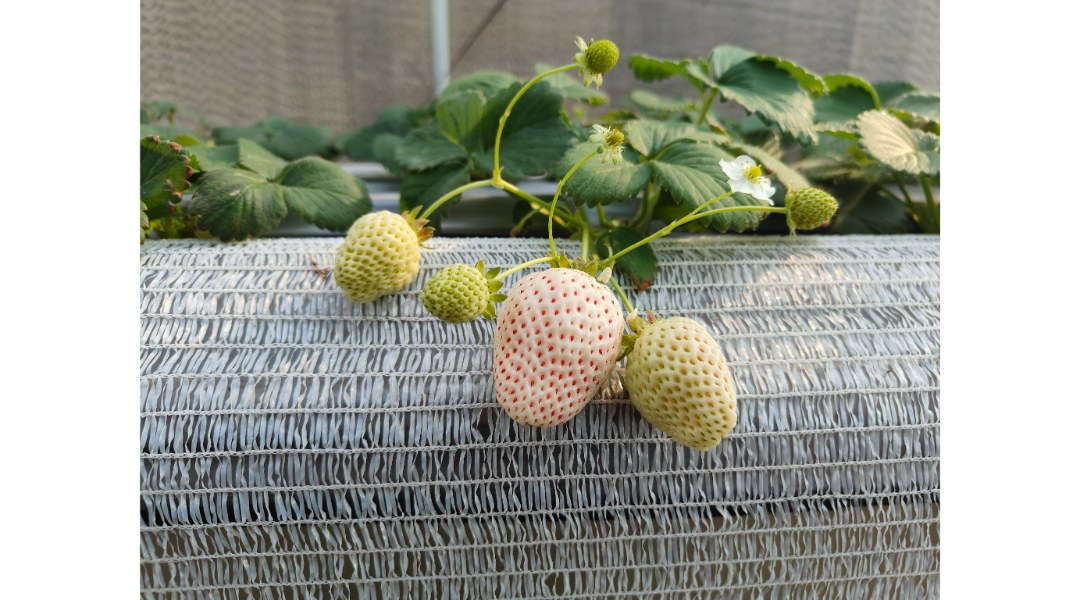berry: (501, 256, 623, 451), (620, 303, 748, 468), (321, 195, 428, 330), (419, 257, 500, 342), (561, 21, 632, 86), (789, 179, 836, 225)
flower: (708, 141, 777, 202), (576, 118, 645, 172)
strain: (492, 55, 581, 184), (410, 178, 484, 233), (637, 216, 690, 253), (696, 201, 787, 219)
